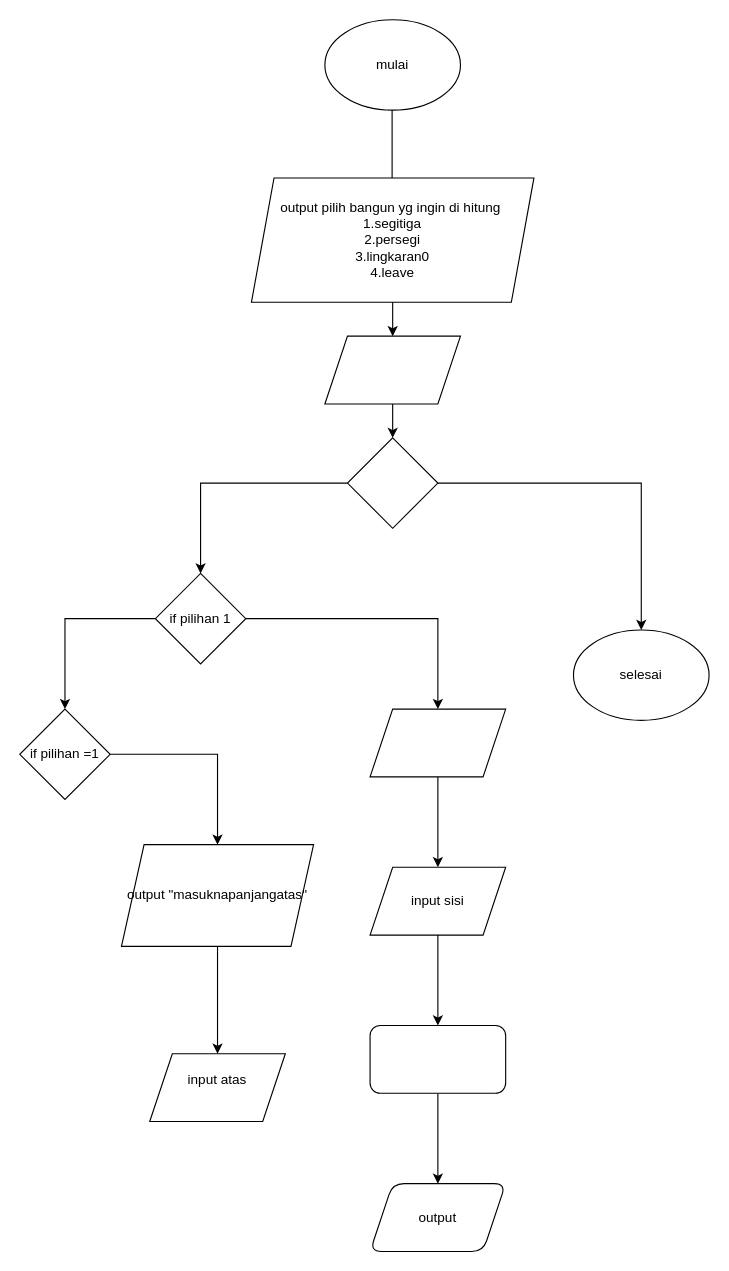
The diagram is 729 pixels wide and 1271 high, and some of its shapes have lost their labels. The shapes that lost their labels are listed below. From the top down, each one's centre as x and y in pixels, then its label:
the point at 392,369: input pilihan
the point at 392,482: if pilihan =4
the point at 437,742: output "masukan panjang sisi"
the point at 437,1058: luas sisi sisi
